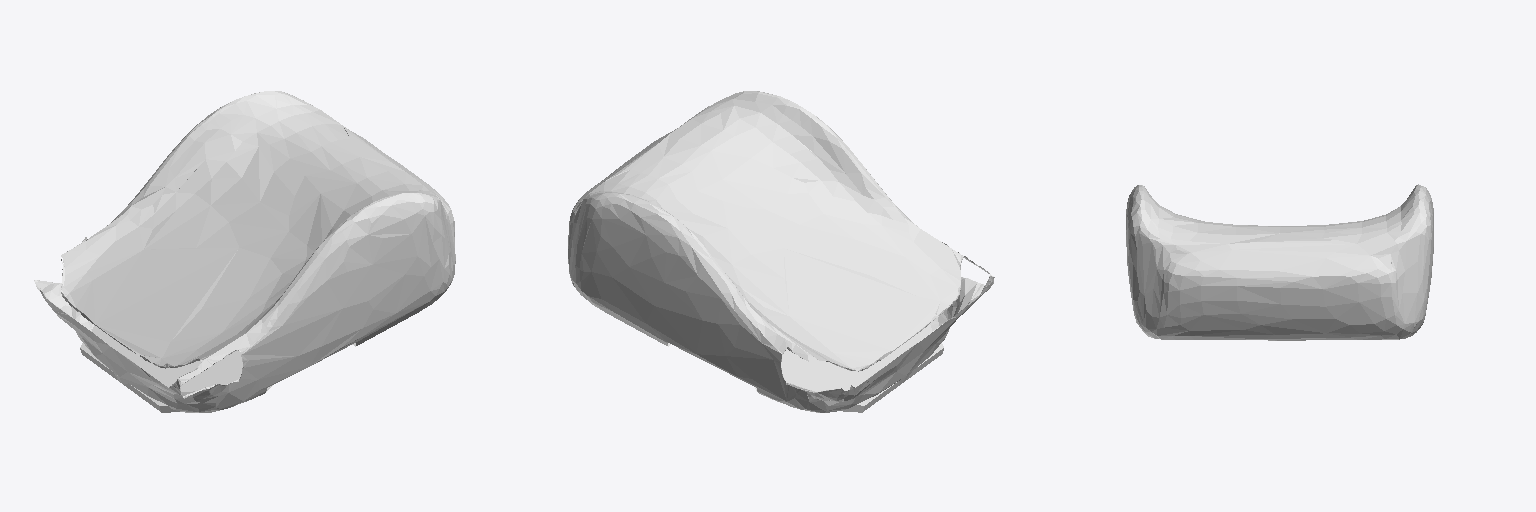
File: seat.obj
3 renders of one model, left to right at view 1: azimuth 30°, elevation 25°; view 2: azimuth 150°, elevation 25°; view 3: azimuth 270°, elevation 25°, orthographic.
Visible parts, largest first — view 1: CockpitSeat_Scene.004; view 2: CockpitSeat_Scene.004; view 3: CockpitSeat_Scene.004.
Boxes of the visible parts, x1,y1,x2,y2 form: CockpitSeat_Scene.004: [34, 91, 455, 412]; CockpitSeat_Scene.004: [568, 91, 994, 412]; CockpitSeat_Scene.004: [1126, 184, 1433, 340].
Bounding box in the file's own units: 0.4961 × 0.2974 × 0.4383.